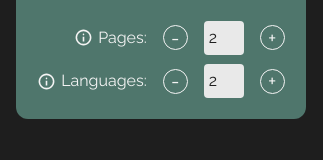
Test: WebFeatures › decreases the amount of pages when the corresponding + button is pressed
Click the button named "Remove page" at (175,38), box [163,25,188,50]
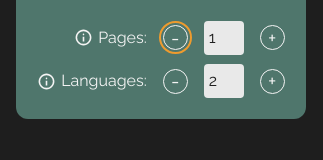
Now the number field labelled "pages:" holds "1", box [204,21,244,55]
